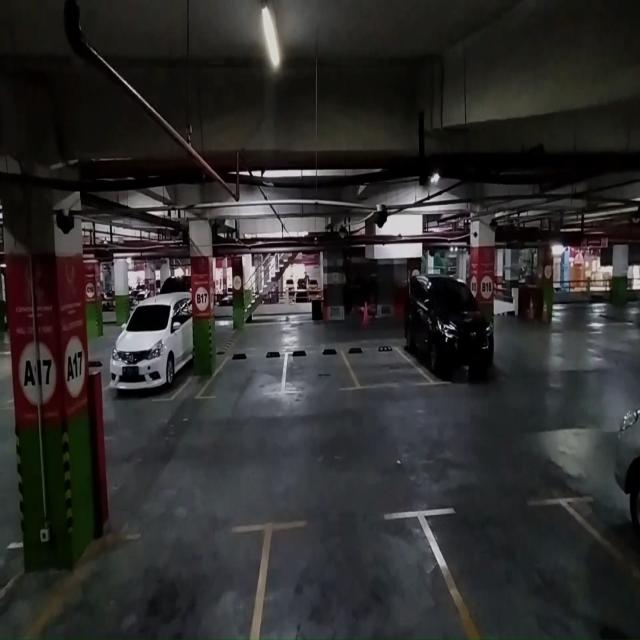empty: (261, 499, 441, 640), (433, 499, 615, 638), (198, 343, 285, 408), (277, 348, 357, 395), (352, 342, 424, 391)
occupied: (106, 296, 184, 404), (416, 296, 486, 385)
